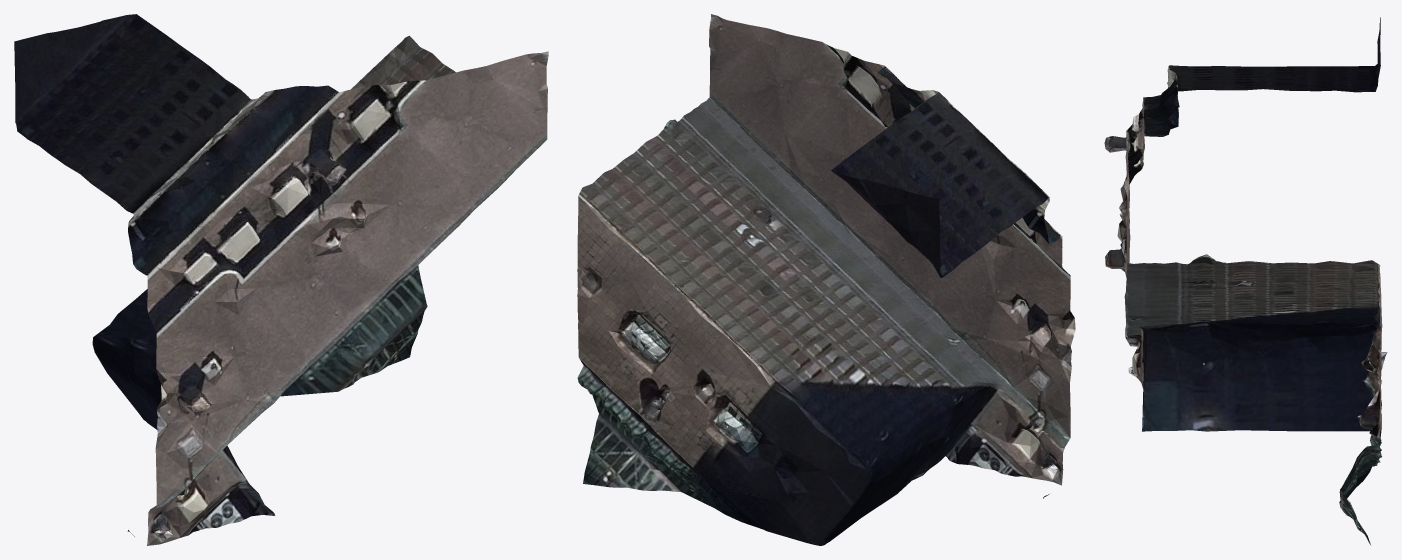
The model's file is Tile_+031_+021_L20_0001100.obj.
3 renders of one model, left to right at view 1: azimuth 30°, elevation 25°; view 2: azimuth 150°, elevation 25°; view 3: azimuth 270°, elevation 25°, orthographic. The views are drawn at different scales.
Size of the model in its own units: 31.5 by 31.38 by 22.22.
Materials: 1 (1 with a texture image).
